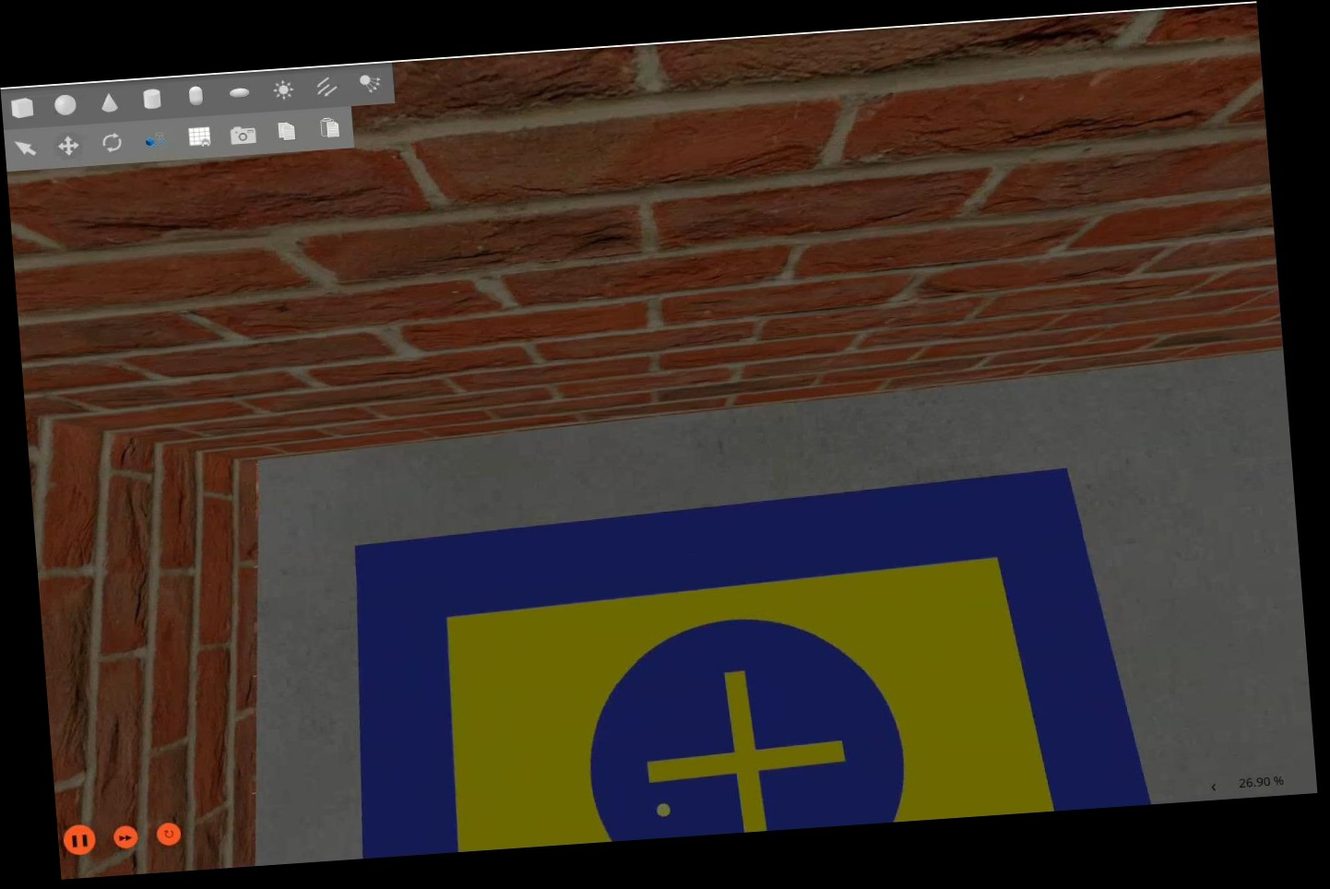large_base: (337, 462, 1151, 860)
